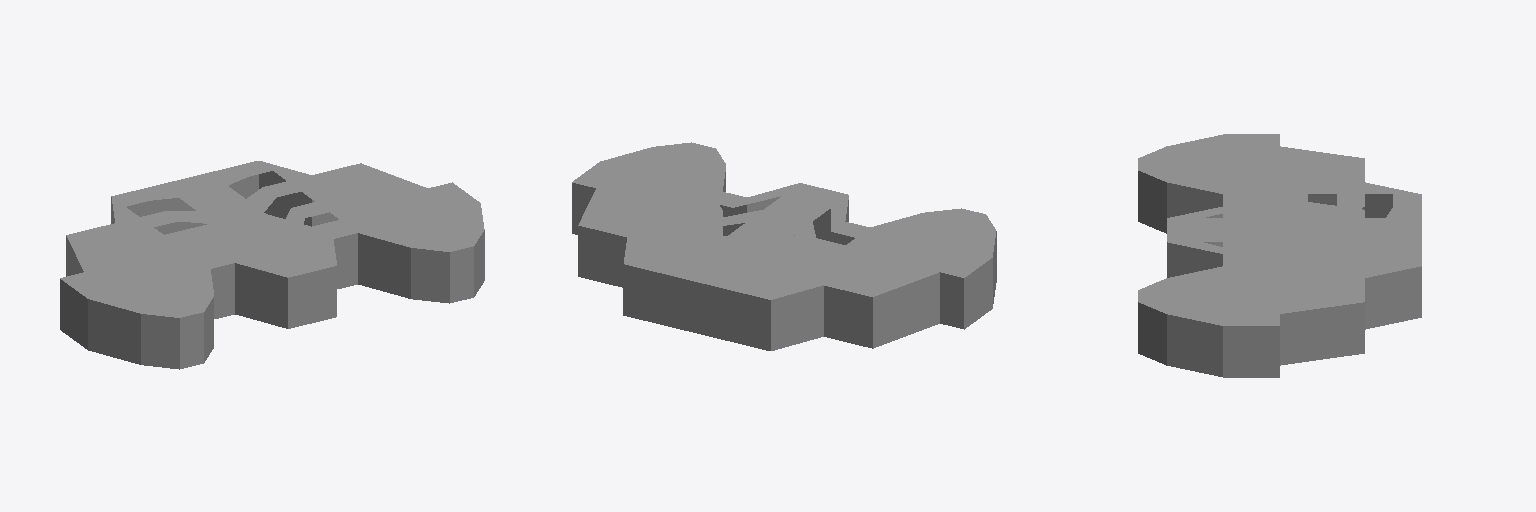
The model's file is mothership.obj.
3 views of the same model, side by side, from view 1: azimuth 30°, elevation 25°; view 2: azimuth 150°, elevation 25°; view 3: azimuth 270°, elevation 25° (orthographic).
Visible parts, largest first — view 1: Cube; view 2: Cube; view 3: Cube.
Boxes of the visible parts, x1,y1,x2,y2 form: Cube: [60, 161, 484, 369]; Cube: [572, 142, 996, 350]; Cube: [1138, 134, 1421, 377].
Size of the model in its own units: 16 by 2 by 10.